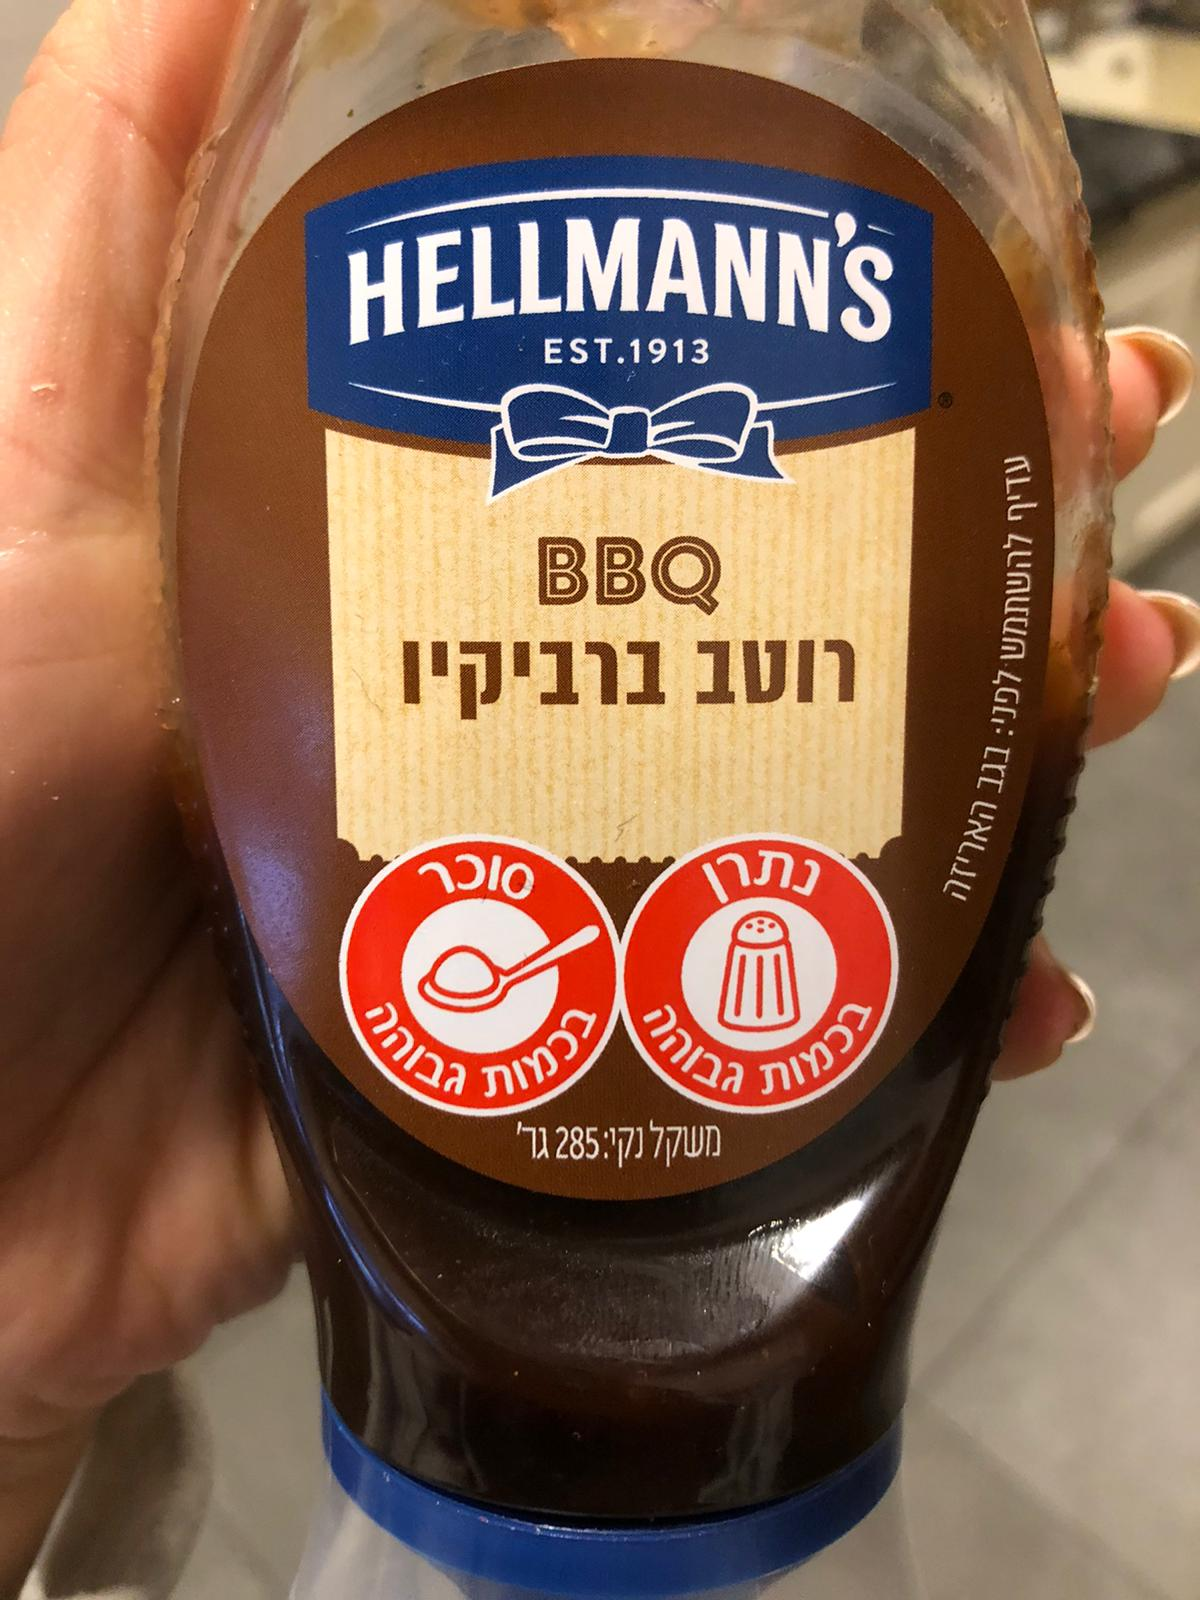salt: (616, 828, 904, 1120)
sugar: (332, 833, 621, 1117)
